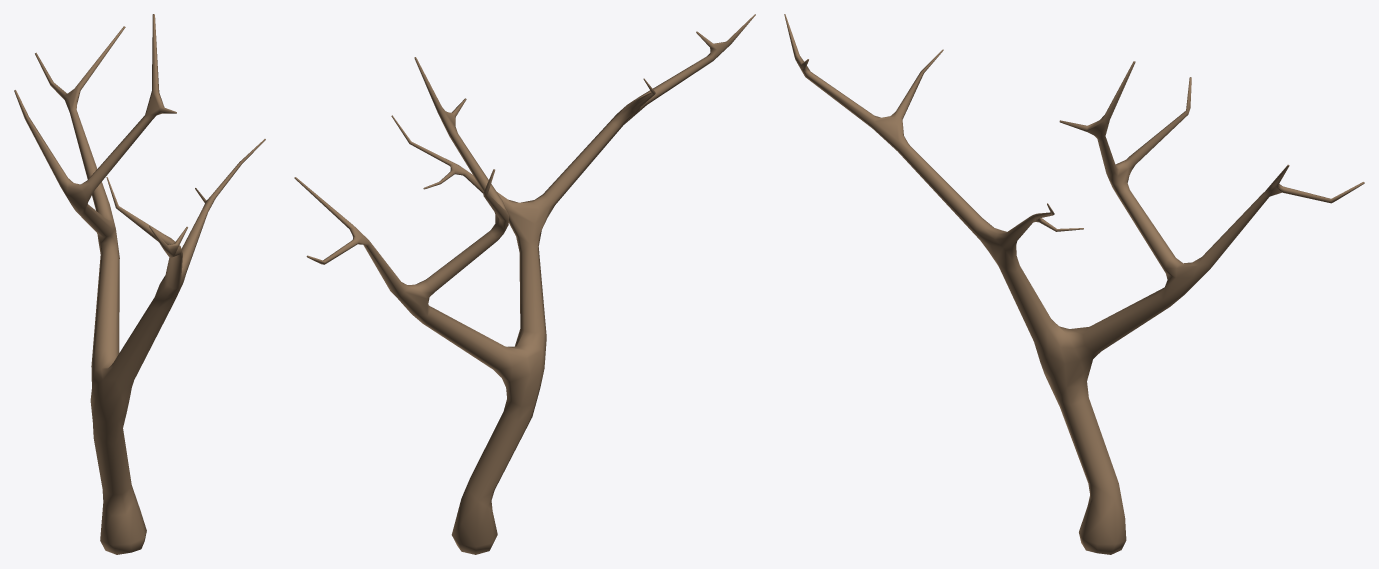
Rendered from Tree_Dead_02_LOD02.fbx.
3 renders of one model, left to right at view 1: azimuth 30°, elevation 25°; view 2: azimuth 150°, elevation 25°; view 3: azimuth 270°, elevation 25°, orthographic. The views are drawn at different scales.
Parts seen in each view (by area): view 1: Tree_Dead_02_LOD02_Geometry; view 2: Tree_Dead_02_LOD02_Geometry; view 3: Tree_Dead_02_LOD02_Geometry.
Part boxes in pixels (bbox=[...]): Tree_Dead_02_LOD02_Geometry: bbox=[14, 14, 265, 554]; Tree_Dead_02_LOD02_Geometry: bbox=[294, 14, 755, 554]; Tree_Dead_02_LOD02_Geometry: bbox=[784, 14, 1364, 554].
Size of the model in its own units: 3.29 by 6.52 by 6.69.
